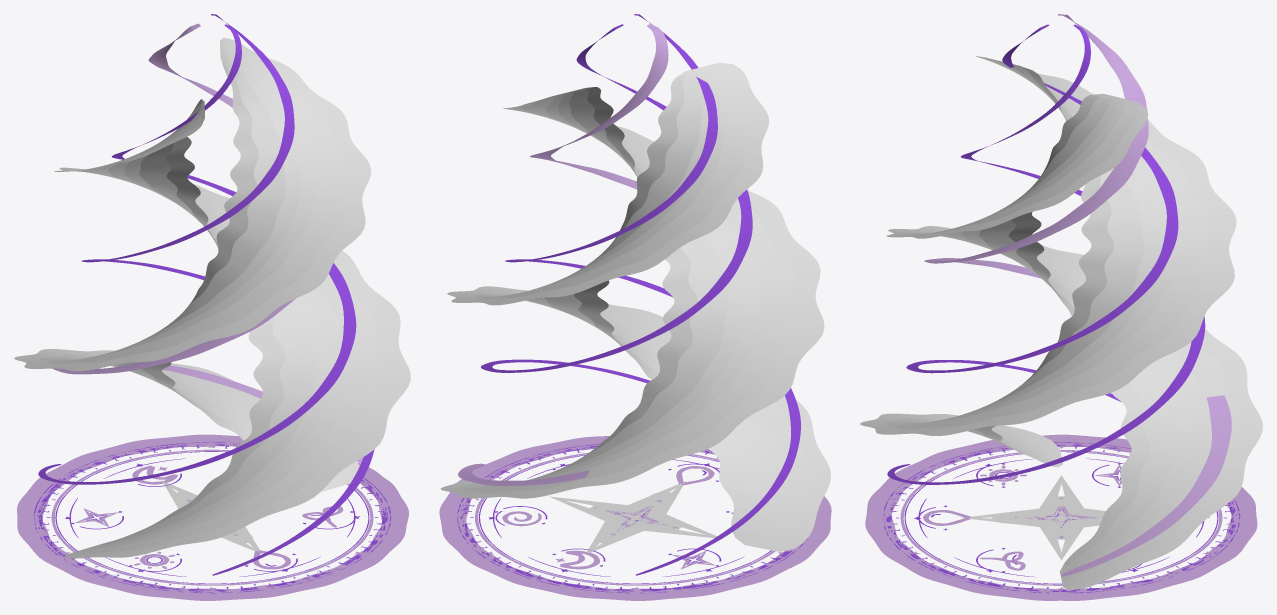
Rendered from ReturnMagic.fbx.
3 views of the same model, side by side, from view 1: azimuth 30°, elevation 25°; view 2: azimuth 150°, elevation 25°; view 3: azimuth 270°, elevation 25° (orthographic).
Visible parts, largest first — view 1: TeleportMist, TeleportShockwave, TeleportSpiral, ReturnMagicCircle, TeleportStar; view 2: TeleportMist, TeleportSpiral, TeleportShockwave, ReturnMagicCircle, TeleportStar; view 3: TeleportMist, TeleportSpiral, TeleportShockwave, ReturnMagicCircle, TeleportStar.
Part boxes in pixels (x1,y1,x2,y2): TeleportMist: [14, 37, 410, 558]; TeleportShockwave: [17, 434, 408, 600]; TeleportSpiral: [38, 14, 374, 575]; ReturnMagicCircle: [29, 440, 395, 595]; TeleportStar: [162, 481, 261, 553]; TeleportMist: [441, 62, 830, 551]; TeleportSpiral: [458, 14, 800, 575]; TeleportShockwave: [439, 436, 831, 600]; ReturnMagicCircle: [452, 441, 818, 595]; TeleportStar: [549, 481, 722, 554]; TeleportMist: [860, 56, 1262, 589]; TeleportSpiral: [887, 14, 1231, 576]; TeleportShockwave: [865, 434, 1257, 600]; ReturnMagicCircle: [878, 440, 1244, 595]; TeleportStar: [962, 475, 1105, 560].
Bounding box in the file's own units: 216 × 300 × 221.
